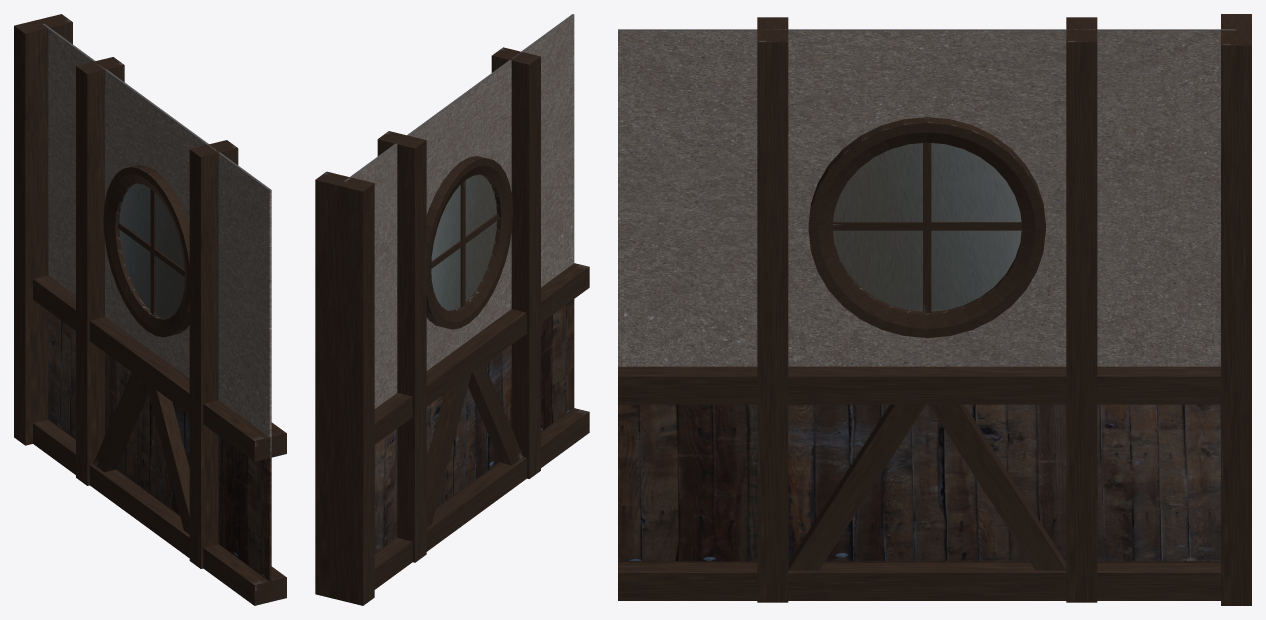
Rendered from OutdoorArchitecture_BasicWall02_Window02_RightEdge_BShortt.fbx.
The picture shows the model from 3 angles, left to right: view 1: azimuth 30°, elevation 25°; view 2: azimuth 150°, elevation 25°; view 3: azimuth 270°, elevation 25°; orthographic projection. The views are drawn at different scales.
Visible parts, largest first — view 1: OutdoorArchitecture_BasicWall02_Window02_RightEdge_BShortt; view 2: OutdoorArchitecture_BasicWall02_Window02_RightEdge_BShortt; view 3: OutdoorArchitecture_BasicWall02_Window02_RightEdge_BShortt.
Part boxes in pixels (left/top/right/bottom): OutdoorArchitecture_BasicWall02_Window02_RightEdge_BShortt: left=14, top=14, right=286, bottom=605; OutdoorArchitecture_BasicWall02_Window02_RightEdge_BShortt: left=315, top=14, right=589, bottom=605; OutdoorArchitecture_BasicWall02_Window02_RightEdge_BShortt: left=618, top=14, right=1251, bottom=605.
Size of the model in its own units: 36.37 by 300 by 308.
